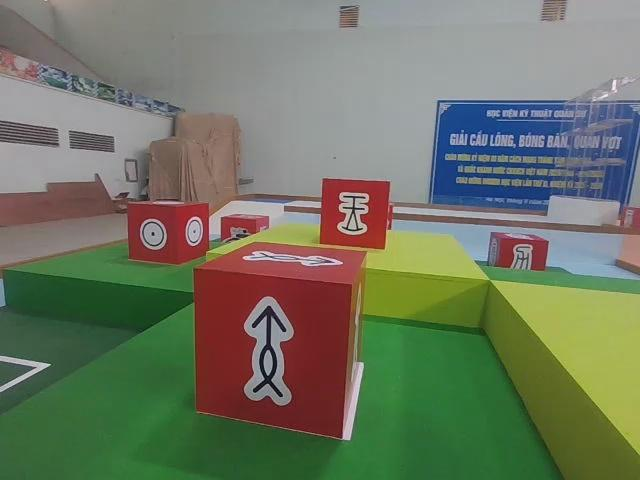R2 Fake: (485, 229, 551, 279)
R2 Real: (191, 238, 367, 445), (127, 200, 211, 262), (321, 180, 389, 249)
